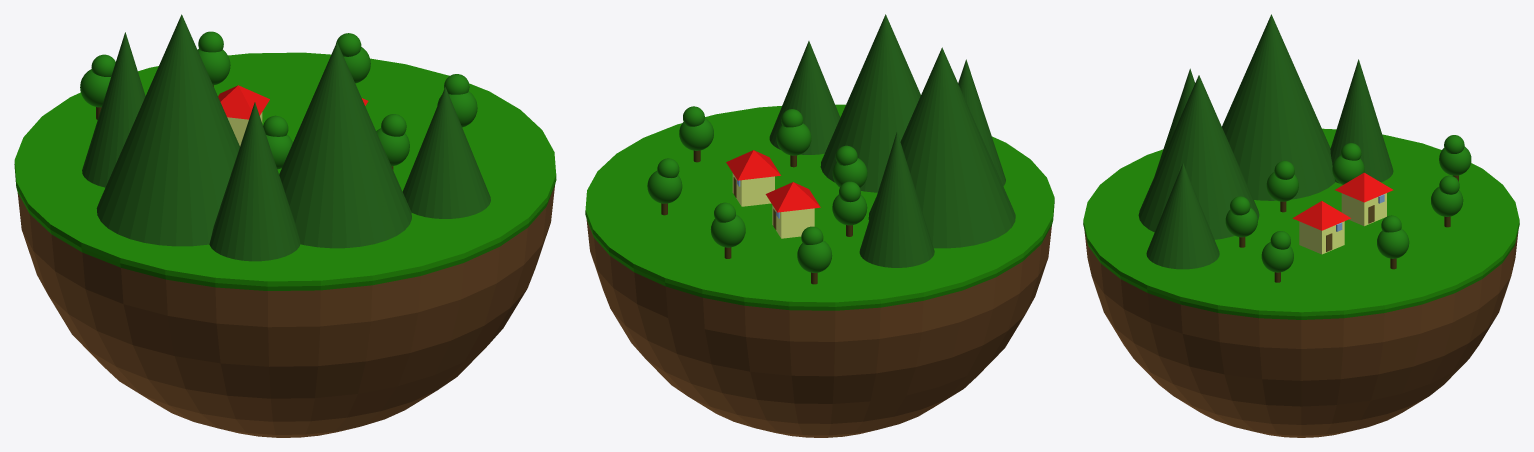
Rendered from ecovillage.glb.
The picture shows the model from 3 angles, left to right: view 1: azimuth 30°, elevation 25°; view 2: azimuth 150°, elevation 25°; view 3: azimuth 270°, elevation 25°; orthographic projection. The views are drawn at different scales.
Visible parts, largest first — view 1: Sphere, Cone.004, Sphere.009, Cone.006; view 2: Sphere, Cone.004, Sphere.009, Cone.005, Cone.006, Cylinder.005; view 3: Sphere, Cone.004, Sphere.009, Cone.005, Cone.006.
Boxes of the visible parts, left/top/right/bottom form: Sphere: left=14, top=52, right=556, bottom=437; Cone.004: left=82, top=14, right=490, bottom=261; Sphere.009: left=80, top=31, right=477, bottom=169; Cone.006: left=218, top=85, right=269, bottom=146; Sphere: left=585, top=104, right=1054, bottom=437; Cone.004: left=769, top=14, right=1015, bottom=267; Sphere.009: left=647, top=106, right=867, bottom=272; Cone.005: left=726, top=150, right=780, bottom=206; Cone.006: left=765, top=182, right=820, bottom=238; Cylinder.005: left=661, top=150, right=852, bottom=284; Sphere: left=1083, top=128, right=1519, bottom=437; Cone.004: left=1138, top=14, right=1393, bottom=269; Sphere.009: left=1225, top=135, right=1471, bottom=272; Cone.005: left=1292, top=201, right=1350, bottom=254; Cone.006: left=1335, top=172, right=1393, bottom=226.
Bounding box in the file's own units: 2 × 1.8 × 2.
